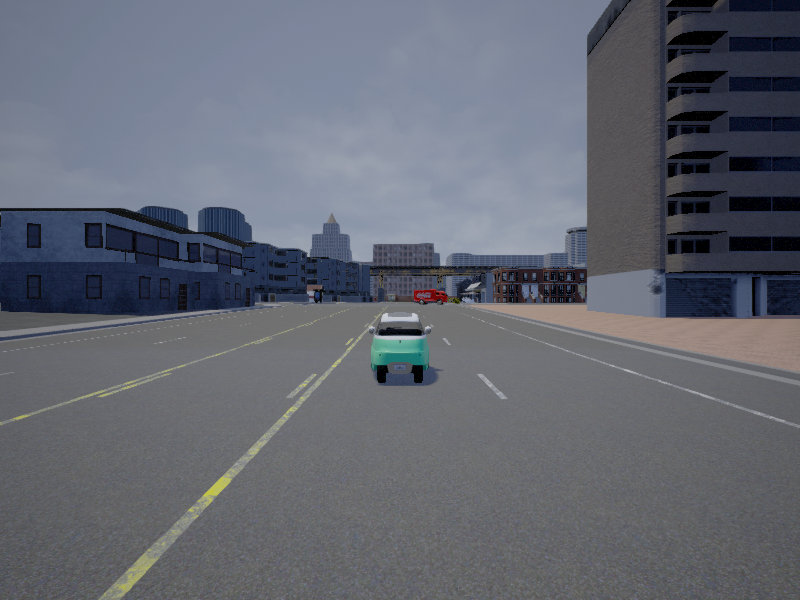Benign: (369, 313, 432, 385), (415, 290, 448, 305)
